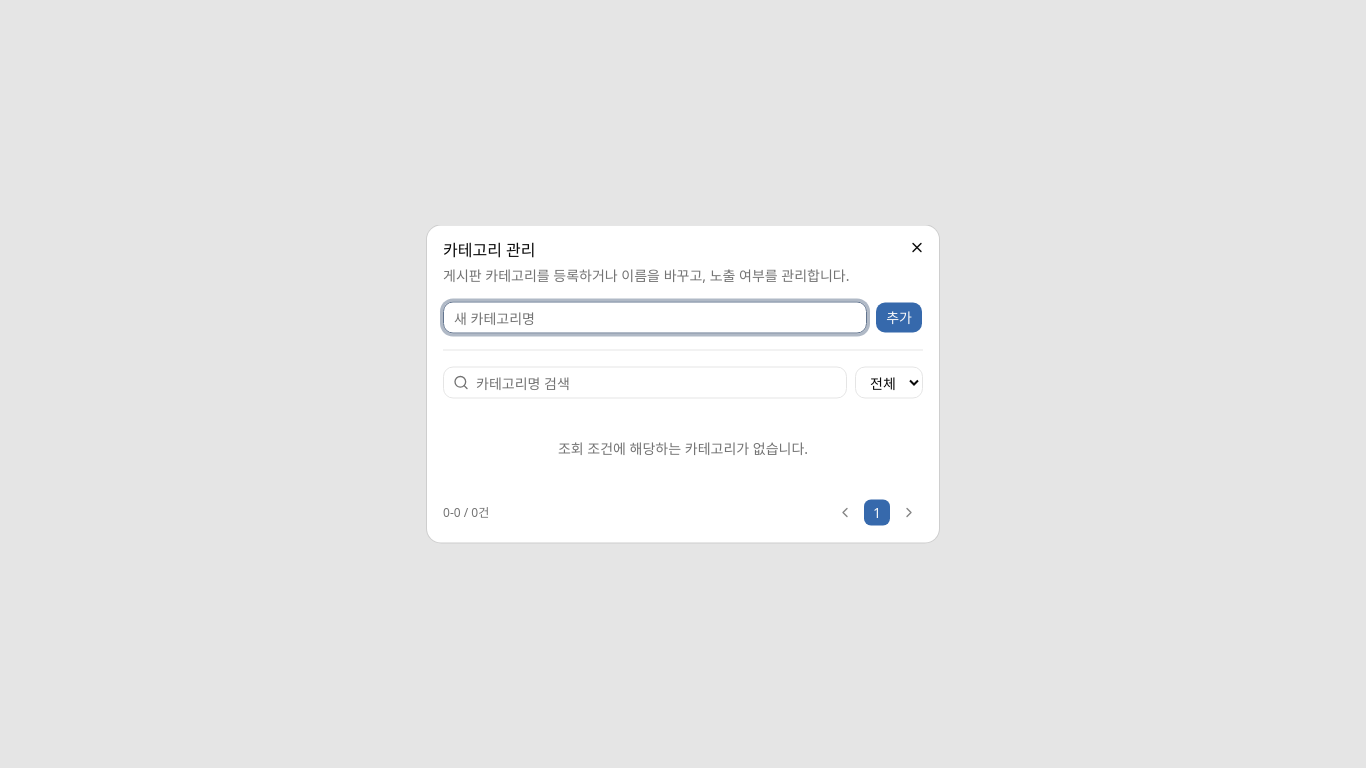
Scenario: CategoryManagementDialog › 빈 값으로 등록 제출 시 zod 사전검증 메시지를 노출하고 요청을 보내지 않는다
Expected: the text "조회 조건에 해당하는 카테고리가 없습니다." is shown, [558,438,808,458]
Click the button "추가". click: {"x": 899, "y": 318}
box: [875,302,923,334]
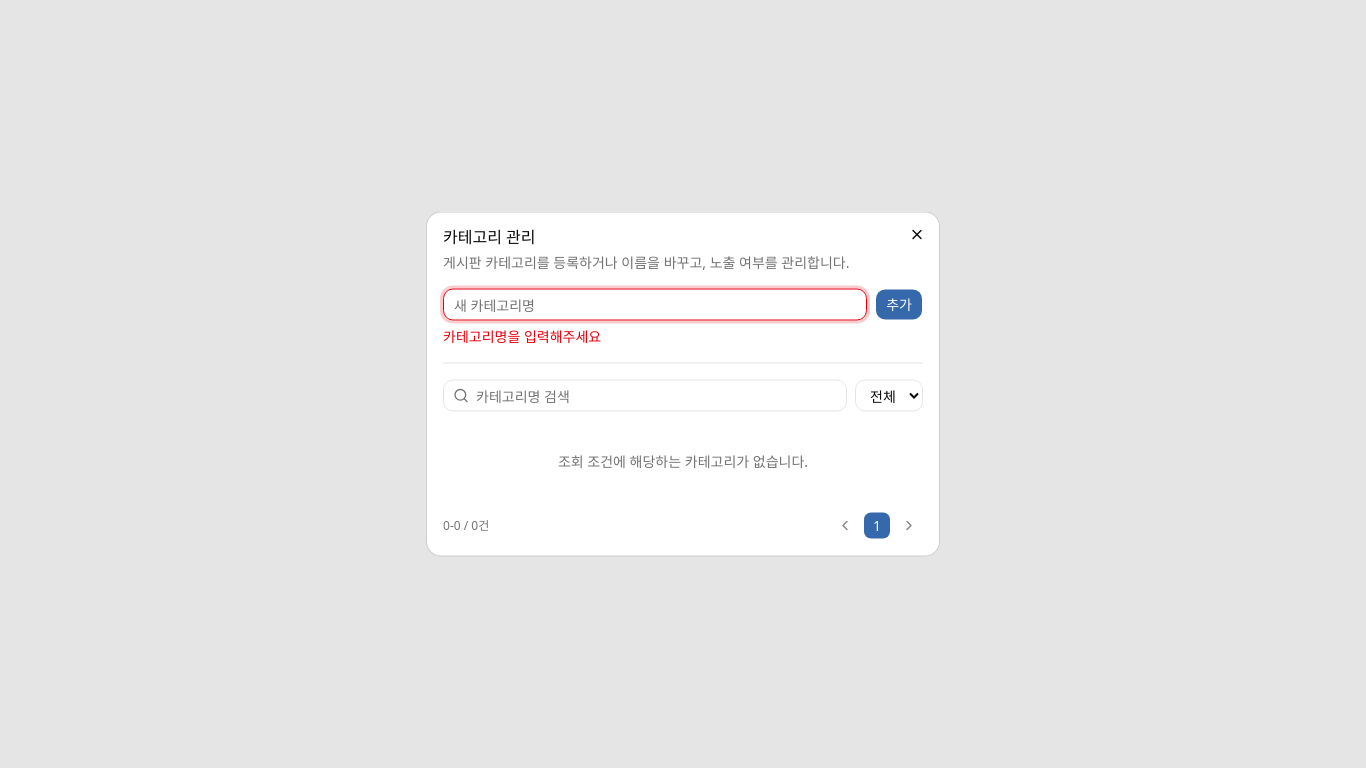
Expected: the text "카테고리명을 입력해주세요" is shown, [443,326,601,346]
